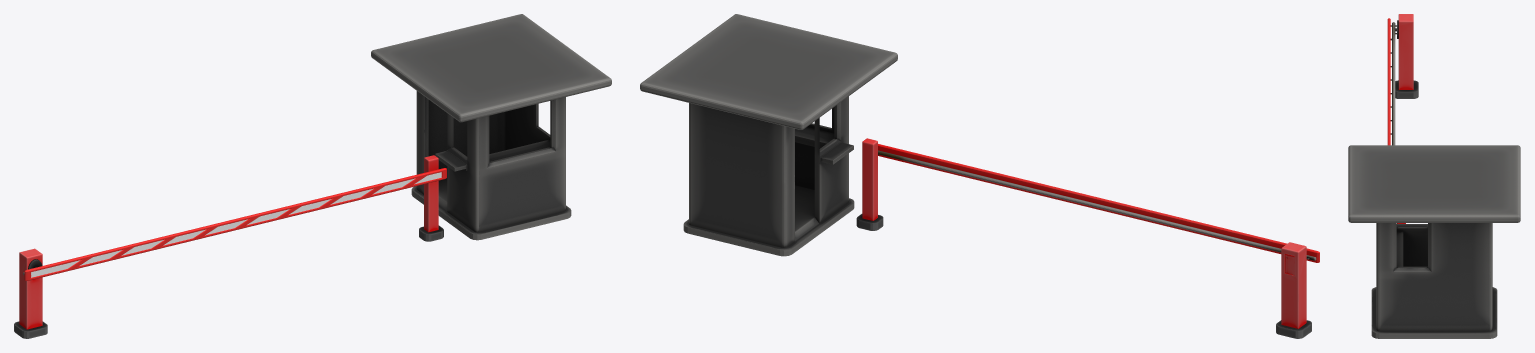
File: automatic_boom_barriers.glb
3 renders of one model, left to right at view 1: azimuth 30°, elevation 25°; view 2: azimuth 150°, elevation 25°; view 3: azimuth 270°, elevation 25°, orthographic. The views are drawn at different scales.
Visible parts, largest first — view 1: gate_house_guard, Gate Fence_Gate Fence_0, gate_stand_left, gate_stand_right; view 2: gate_house_guard, Gate Fence_Gate Fence_0, gate_stand_left, gate_stand_right; view 3: gate_house_guard, gate_stand_left, Gate Fence_Gate Fence_0.
Boxes of the visible parts, left/top/right/bottom form: gate_house_guard: left=371, top=14, right=611, bottom=240; Gate Fence_Gate Fence_0: left=23, top=168, right=446, bottom=280; gate_stand_left: left=14, top=248, right=47, bottom=338; gate_stand_right: left=419, top=155, right=443, bottom=241; gate_house_guard: left=640, top=14, right=897, bottom=256; Gate Fence_Gate Fence_0: left=878, top=144, right=1319, bottom=262; gate_stand_left: left=1276, top=242, right=1311, bottom=338; gate_stand_right: left=856, top=138, right=883, bottom=230; gate_house_guard: left=1348, top=145, right=1520, bottom=338; gate_stand_left: left=1395, top=14, right=1418, bottom=98; Gate Fence_Gate Fence_0: left=1387, top=18, right=1396, bottom=145.
Size of the model in its own units: 69.33 by 16.51 by 19.07.
Materials: 3 (3 with a texture image).
